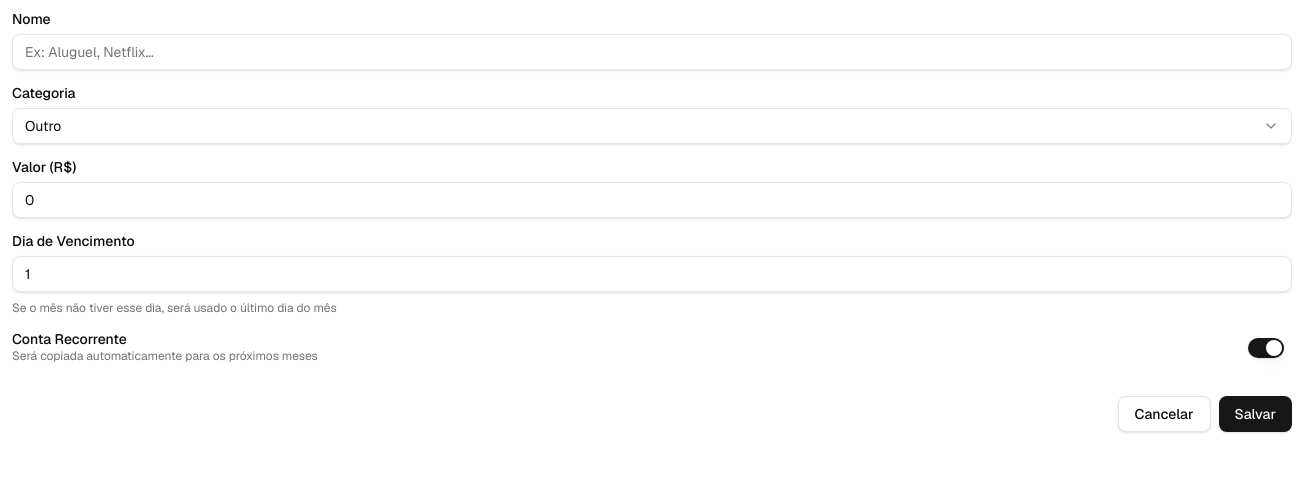
Test: BillForm › should_validate_required_name_field
This screenshot has width=1304, height=498.
Click the button with test id "bill-form-submit" at (1255, 414), box x1=1218 y1=396 x2=1292 y2=432
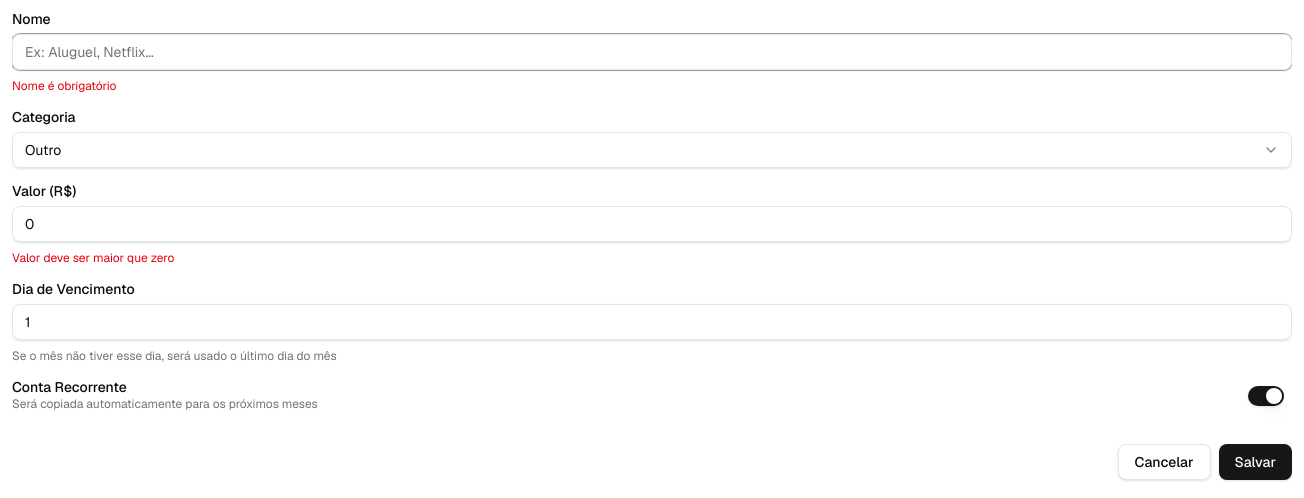
Check: the text "Nome é obrigatório" is shown, box x1=12 y1=78 x2=116 y2=94
